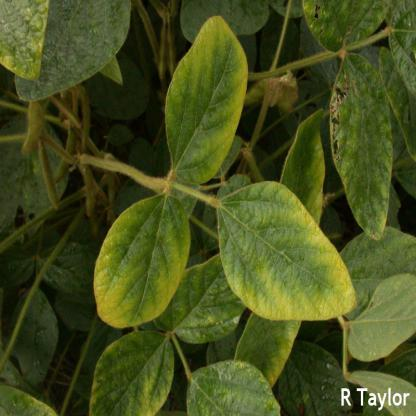Soyabean leaf: (215, 178, 359, 324), (164, 14, 249, 185), (92, 190, 192, 330)
